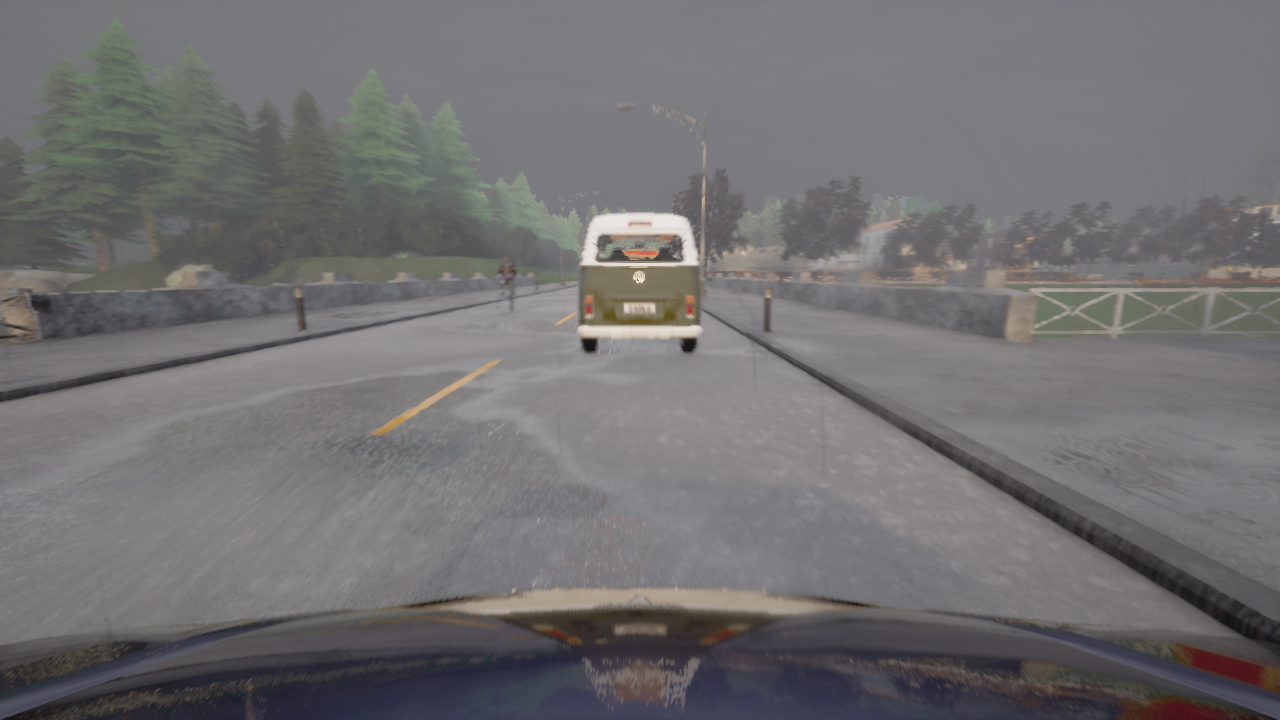cyclist: (0, 588, 1279, 719), (577, 214, 702, 353), (499, 276, 514, 314)
